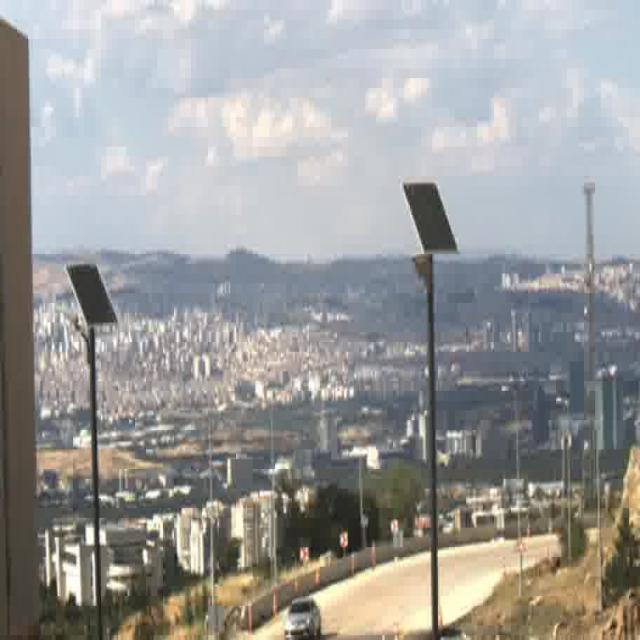Car: (284, 599, 320, 640)
